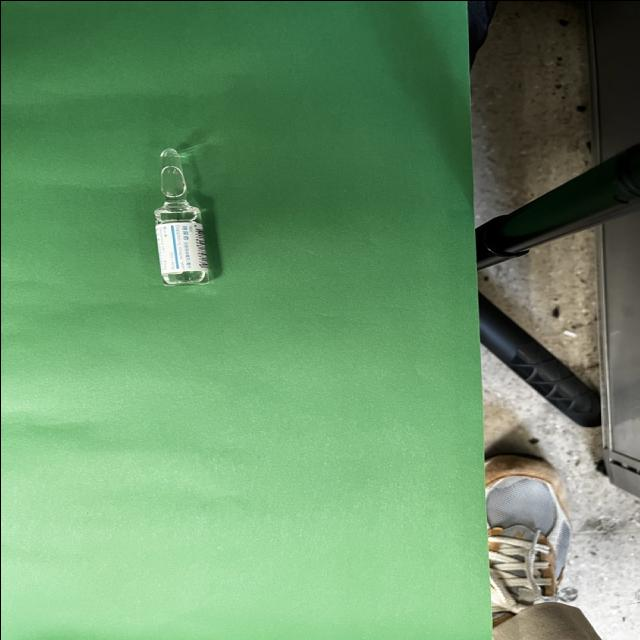Ampoules: (154, 147, 209, 284)
